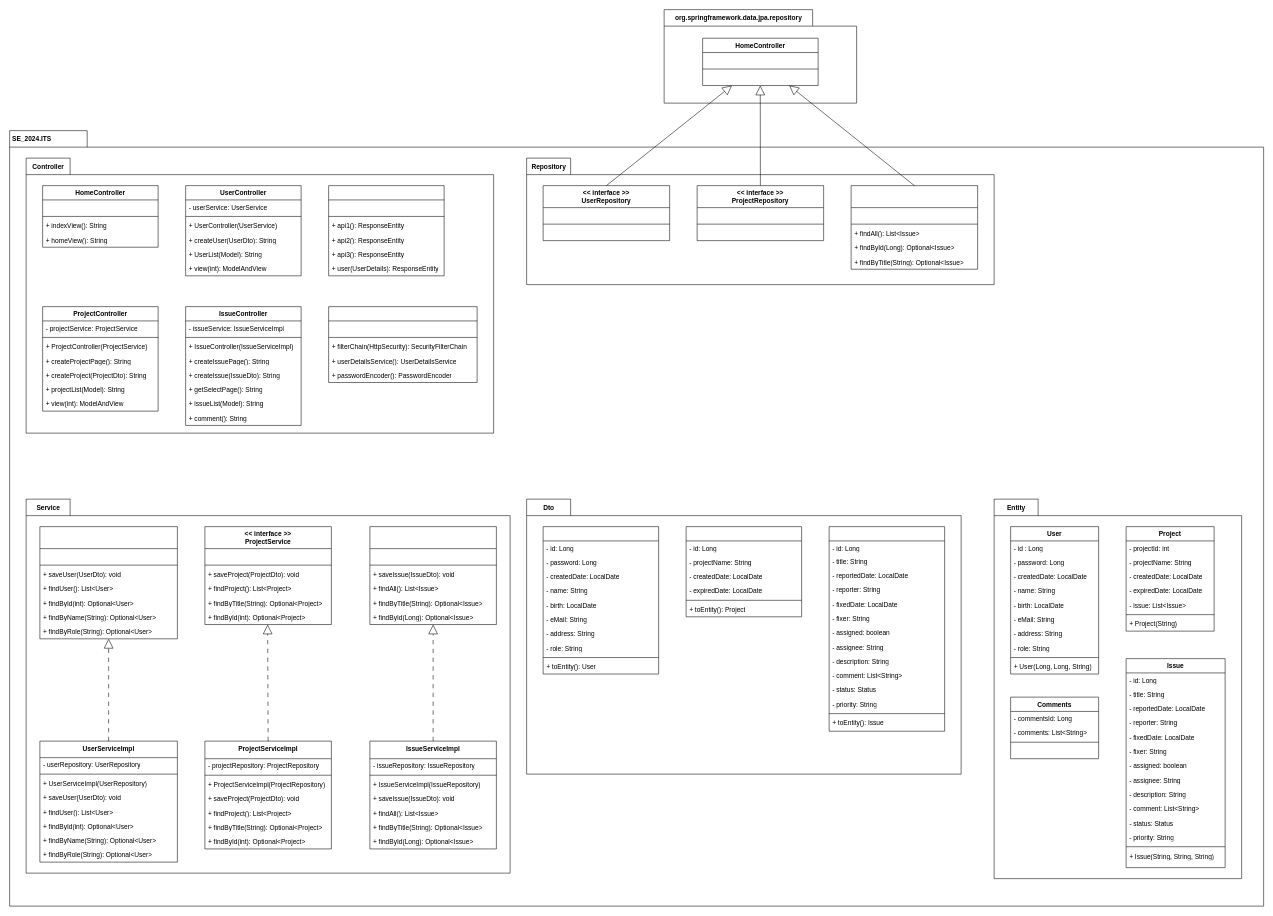
The diagram is 1273 pixels wide and 916 high, and some of its shapes have lost their labels. The box of each missing label's shape, as (x1, y1, x2, y2) in pixels:
<< interface >> IssueRepository: (851, 185, 978, 269)
<< interface >> IssueService: (369, 526, 496, 625)
<< interface >> UserService: (39, 526, 177, 639)
IssueDto: (829, 526, 945, 731)
LoginController: (328, 185, 444, 276)
ProjectDto: (686, 526, 802, 617)
UserDto: (543, 526, 659, 674)
WebSecurityConfig: (328, 306, 477, 383)
